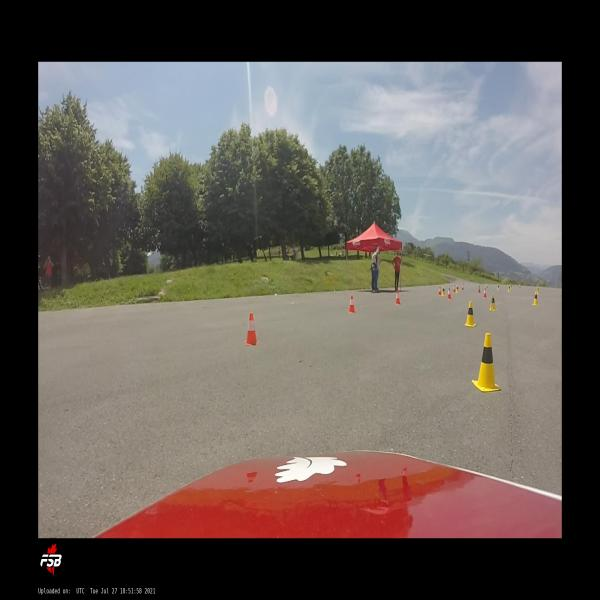orange_cone: (244, 312, 260, 345), (348, 296, 356, 313), (395, 291, 401, 305), (447, 288, 451, 299), (483, 288, 486, 298), (438, 286, 441, 295), (478, 286, 481, 292), (453, 285, 455, 292), (462, 284, 464, 290)
yellow_cone: (472, 332, 501, 392), (465, 301, 476, 327), (489, 294, 497, 311), (532, 291, 538, 305), (442, 287, 445, 296), (537, 284, 539, 295), (497, 284, 500, 290), (456, 285, 458, 293), (508, 284, 510, 292), (510, 284, 512, 290)
